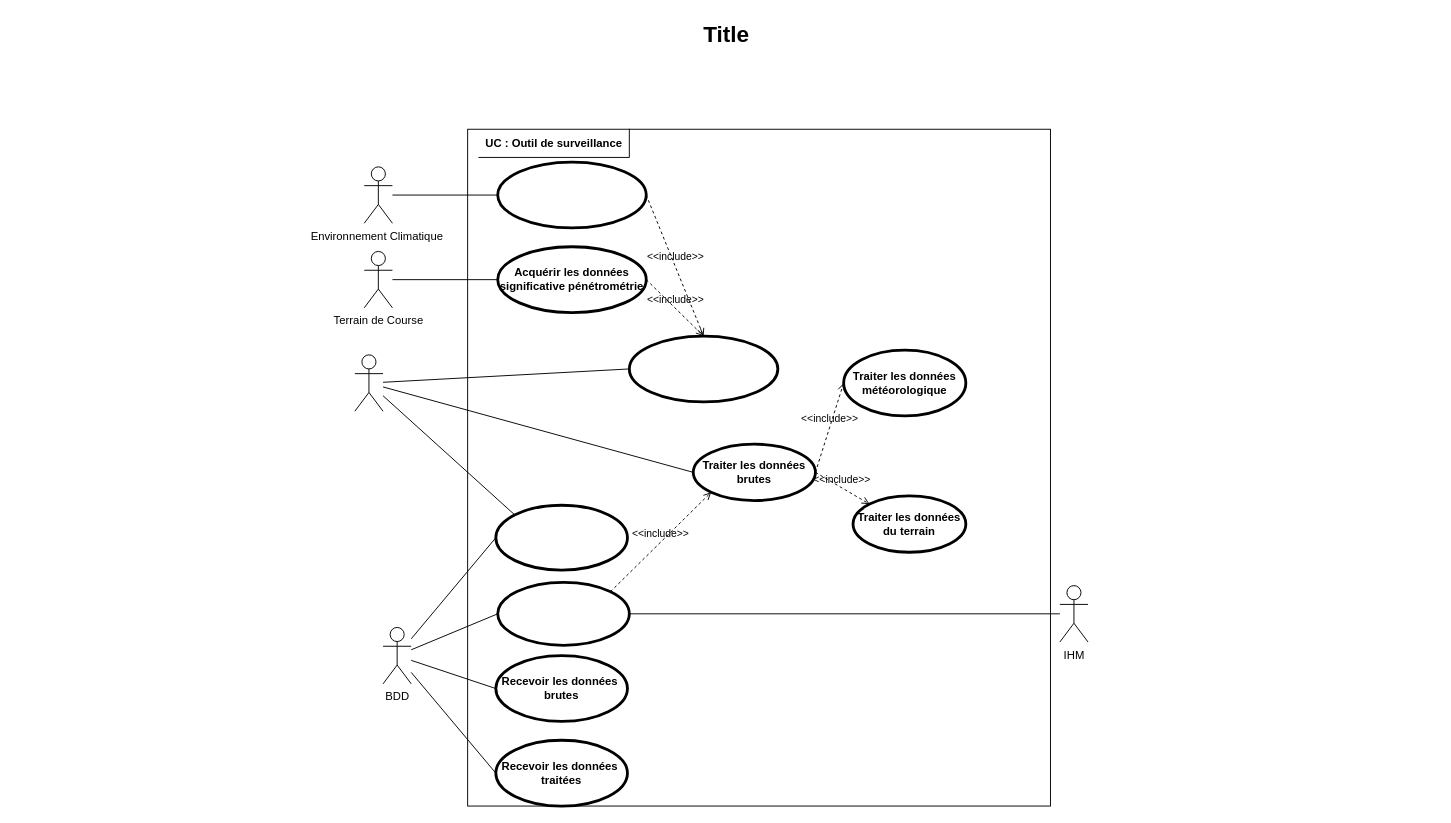
Some shapes in this 1451 by 823 pixel diagram are drawn without their labels. The centre of each missing label's shape, as x and y in pixels:
"Acquérir les données significative météorologiques" belongs at point (571, 194).
"Envoyer les données brutes" belongs at point (561, 537).
"Envoyer les données Traitées" belongs at point (563, 613).
"Système Traitement" belongs at point (368, 382).
"Transmettre les valeurs Brutes" belongs at point (703, 368).
